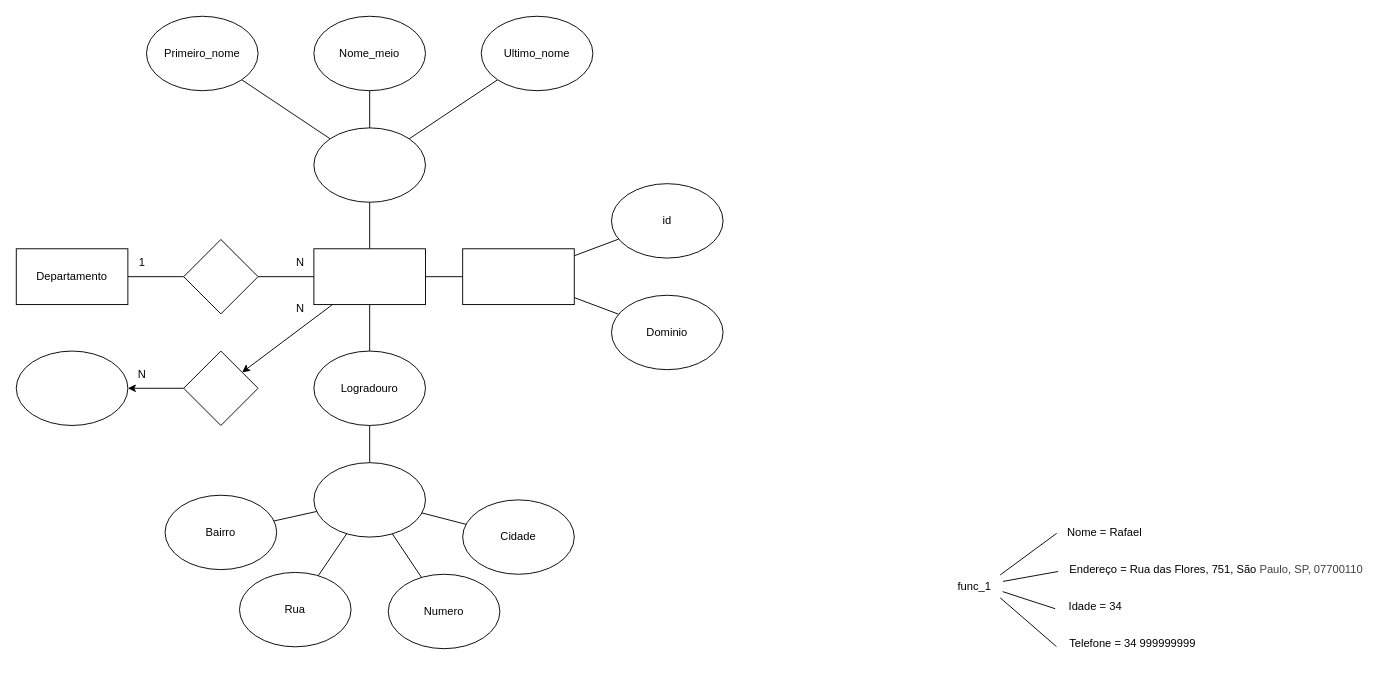
This 1390x674 diagram has some shape labels left out. Here are the shapes that lost their labels. From the top down, the centre of each, then its label:
the point at 369,164: Nome
the point at 220,276: Trabalha_para
the point at 369,276: Funcionário
the point at 518,276: Usuário
the point at 71,387: Projeto
the point at 369,499: Endereco
